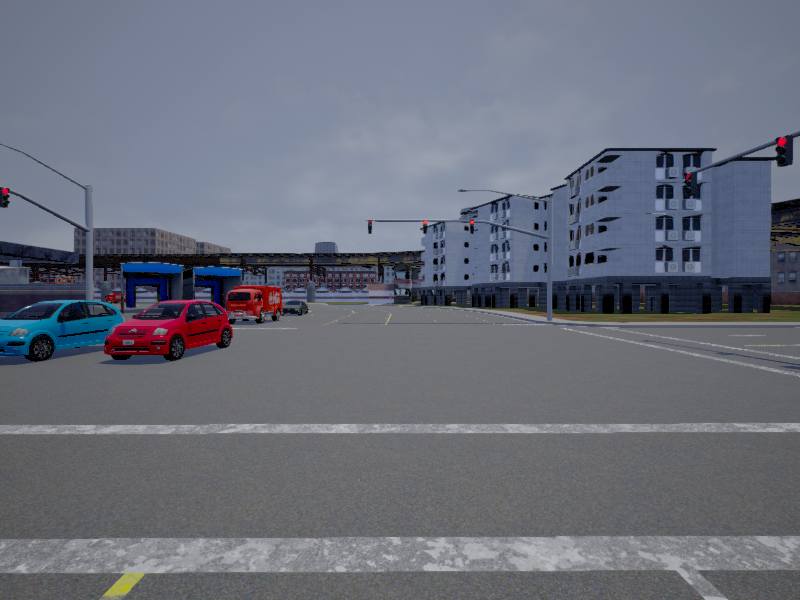Benign: (103, 299, 232, 361), (1, 303, 125, 360), (227, 287, 282, 323), (282, 297, 311, 319)
